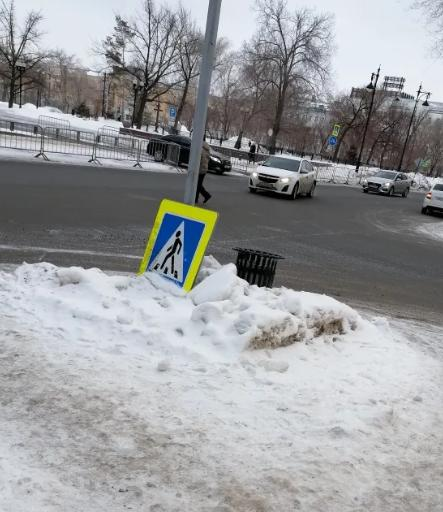obstructed_road_sign: (138, 198, 217, 292)
